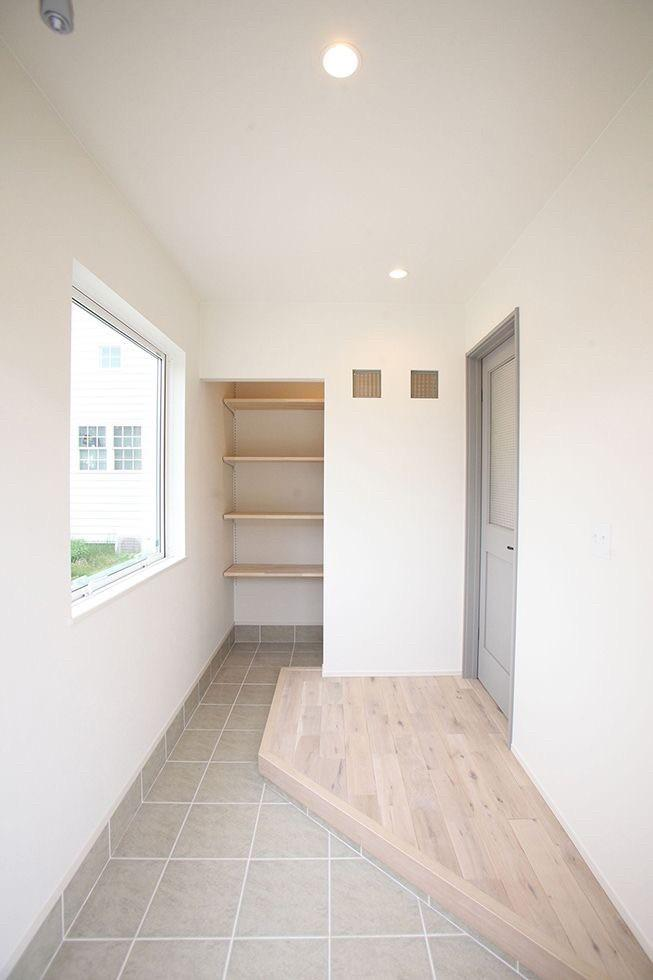floor: (39, 642, 528, 979)
safe: (259, 667, 652, 979)
